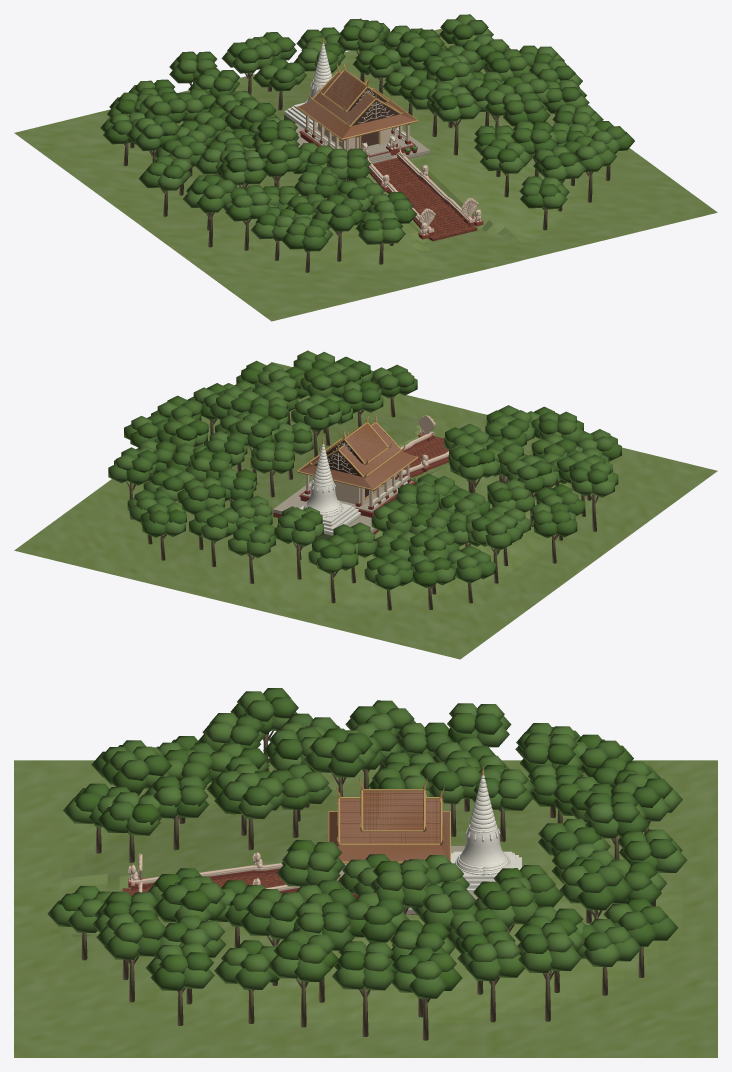
Rendered from normal.glb.
The picture shows the model from 3 angles, top to bottom: view 1: azimuth 30°, elevation 25°; view 2: azimuth 150°, elevation 25°; view 3: azimuth 270°, elevation 25°; orthographic projection. The views are drawn at different scales.
Visible parts, largest first — view 1: Batched Viewer V4 | green hill ground, Batched Viewer V4 | canopy 1, Batched Viewer V4 | canopy 0, Batched Viewer V4 | canopy 2, Batched Viewer V4 | aged brown orange roof, Batched Viewer V4 | tree bark, Batched Naga | weathered fired brick, Batched Naga | warm sandstone stucco, Batched Viewer V4 | weathered ochre ornament, Batched Viewer V4 | worn warm paving, Batched Viewer V4 | stupa lime plaster, Batched Viewer V4 | dark carved timber (+3 smaller); view 2: Batched Viewer V4 | green hill ground, Batched Viewer V4 | canopy 0, Batched Viewer V4 | canopy 1, Batched Viewer V4 | canopy 2, Batched Viewer V4 | tree bark, Batched Viewer V4 | aged brown orange roof, Batched Viewer V4 | stupa lime plaster, Batched Viewer V4 | weathered ochre ornament, Batched Viewer V4 | warm buff plaster, Batched Viewer V4 | worn warm paving, Batched Naga | warm sandstone stucco, Batched Naga | weathered fired brick (+3 smaller); view 3: Batched Viewer V4 | green hill ground, Batched Viewer V4 | canopy 1, Batched Viewer V4 | canopy 2, Batched Viewer V4 | canopy 0, Batched Viewer V4 | aged brown orange roof, Batched Viewer V4 | tree bark, Batched Viewer V4 | stupa lime plaster, Batched Viewer V4 | tile ribs, Batched Viewer V4 | weathered ochre ornament, Batched Naga | warm sandstone stucco, Batched Naga | weathered fired brick.
Boxes of the visible parts, x1,y1,x2,y2 form: Batched Viewer V4 | green hill ground: [14, 28, 717, 321]; Batched Viewer V4 | canopy 1: [100, 18, 626, 240]; Batched Viewer V4 | canopy 0: [103, 20, 634, 251]; Batched Viewer V4 | canopy 2: [107, 14, 614, 244]; Batched Viewer V4 | aged brown orange roof: [298, 71, 415, 138]; Batched Viewer V4 | tree bark: [123, 50, 610, 272]; Batched Naga | weathered fired brick: [373, 158, 477, 241]; Batched Naga | warm sandstone stucco: [367, 145, 481, 235]; Batched Viewer V4 | weathered ochre ornament: [291, 36, 418, 150]; Batched Viewer V4 | worn warm paving: [295, 123, 429, 163]; Batched Viewer V4 | stupa lime plaster: [284, 43, 332, 128]; Batched Viewer V4 | dark carved timber: [320, 88, 399, 148]; Batched Viewer V4 | green hill ground: [14, 362, 717, 659]; Batched Viewer V4 | canopy 0: [121, 356, 621, 587]; Batched Viewer V4 | canopy 1: [108, 357, 618, 590]; Batched Viewer V4 | canopy 2: [114, 350, 614, 585]; Batched Viewer V4 | tree bark: [126, 395, 598, 610]; Batched Viewer V4 | aged brown orange roof: [299, 423, 416, 488]; Batched Viewer V4 | stupa lime plaster: [299, 444, 360, 535]; Batched Viewer V4 | weathered ochre ornament: [296, 412, 418, 499]; Batched Viewer V4 | warm buff plaster: [306, 464, 409, 506]; Batched Viewer V4 | worn warm paving: [273, 477, 413, 532]; Batched Naga | warm sandstone stucco: [397, 415, 448, 474]; Batched Naga | weathered fired brick: [403, 436, 448, 469]; Batched Viewer V4 | green hill ground: [14, 760, 717, 1057]; Batched Viewer V4 | canopy 1: [67, 700, 682, 998]; Batched Viewer V4 | canopy 2: [47, 691, 687, 992]; Batched Viewer V4 | canopy 0: [57, 688, 678, 990]; Batched Viewer V4 | aged brown orange roof: [329, 791, 449, 861]; Batched Viewer V4 | tree bark: [81, 731, 655, 1040]; Batched Viewer V4 | stupa lime plaster: [451, 775, 521, 894]; Batched Viewer V4 | tile ribs: [340, 791, 439, 843]; Batched Viewer V4 | weathered ochre ornament: [327, 766, 484, 863]; Batched Naga | warm sandstone stucco: [128, 852, 300, 892]; Batched Naga | weathered fired brick: [122, 873, 285, 895].
Bounding box in the file's own units: 34 × 7.66 × 34.
Materials: 19 (1 with a texture image).
